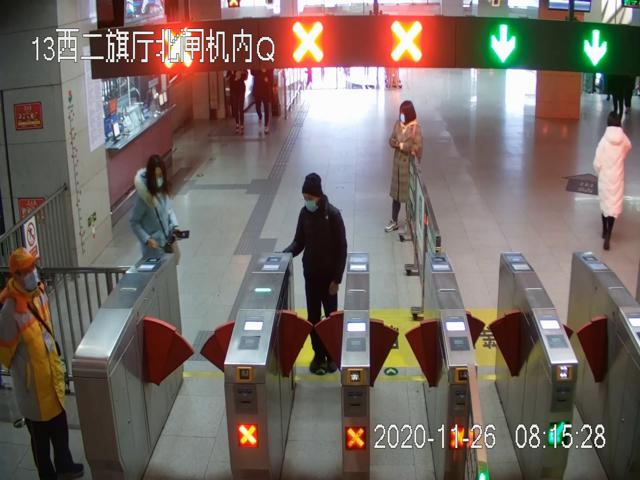person: (2, 245, 83, 480), (289, 172, 346, 376), (127, 155, 189, 268), (385, 98, 424, 236), (593, 109, 630, 253)
